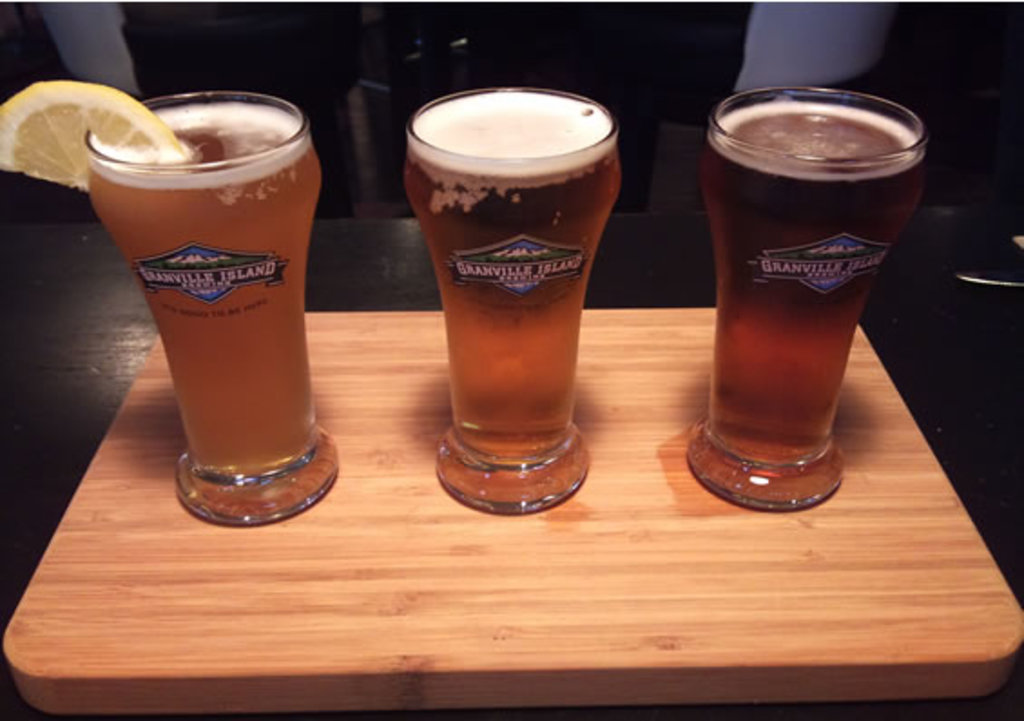Beer: (76, 83, 347, 525), (699, 76, 944, 519), (398, 76, 603, 541)
